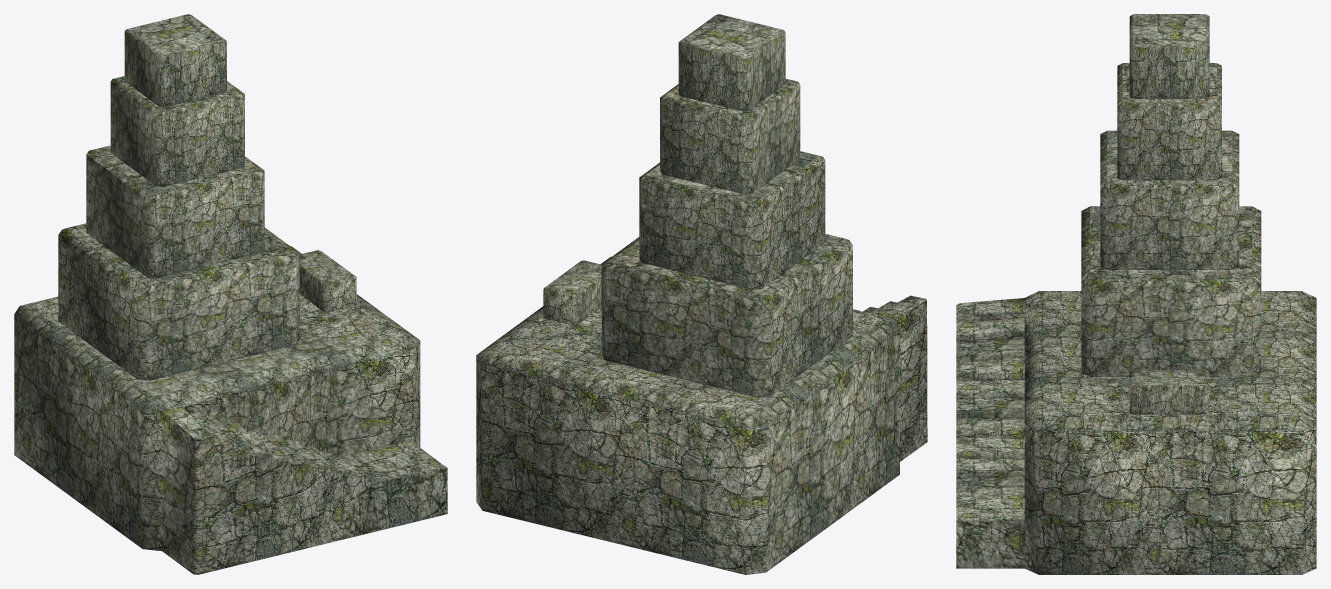
The model's file is thm_nboo_gungan_relic_s01_l0.fbx.
3 renders of one model, left to right at view 1: azimuth 30°, elevation 25°; view 2: azimuth 150°, elevation 25°; view 3: azimuth 270°, elevation 25°, orthographic. The views are drawn at different scales.
Visible parts, largest first — view 1: mesh_node; view 2: mesh_node; view 3: mesh_node.
Part boxes in pixels (x1,y1,x2,y2): mesh_node: (14, 14, 447, 574); mesh_node: (476, 14, 927, 574); mesh_node: (956, 14, 1316, 574).
Bounding box in the file's own units: 14.43 × 22.08 × 15.83.
